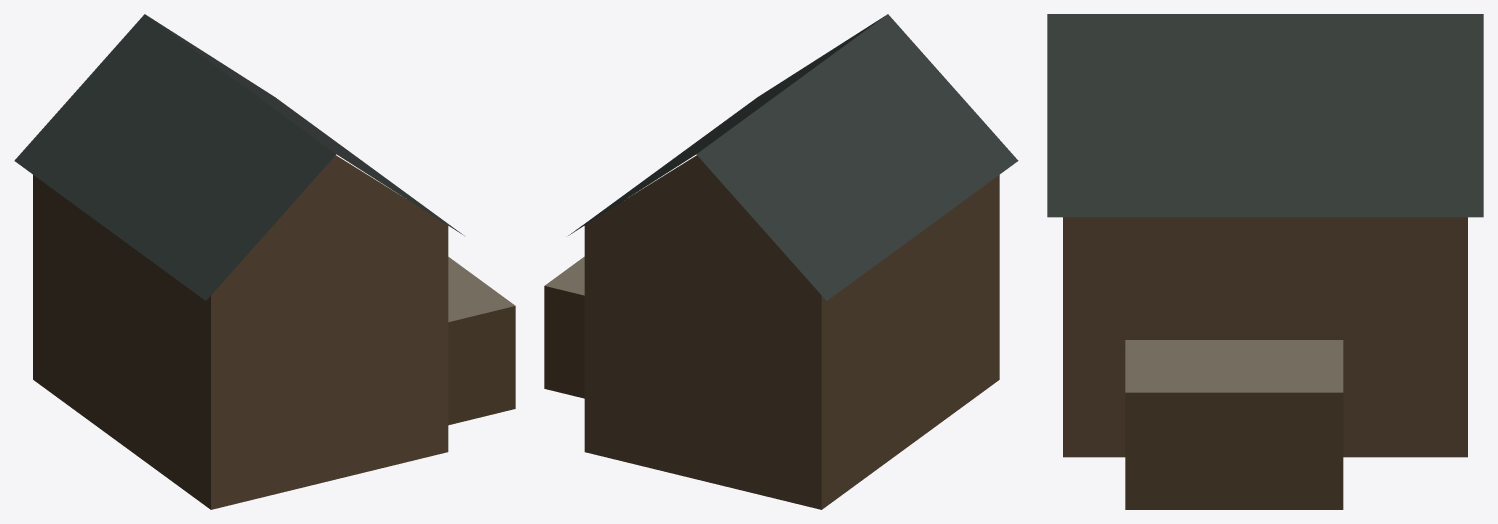
File: rw-boathouse.towns-v1.lod2.glb
3 renders of one model, left to right at view 1: azimuth 30°, elevation 25°; view 2: azimuth 150°, elevation 25°; view 3: azimuth 270°, elevation 25°, orthographic. The views are drawn at different scales.
Visible parts, largest first — view 1: rw-boathouse; view 2: rw-boathouse; view 3: rw-boathouse.
Boxes of the visible parts, x1,y1,x2,y2 form: rw-boathouse: (14,14,515,509); rw-boathouse: (544,14,1018,509); rw-boathouse: (1047,14,1483,509).
Size of the model in its own units: 14.5 by 13.36 by 14.
